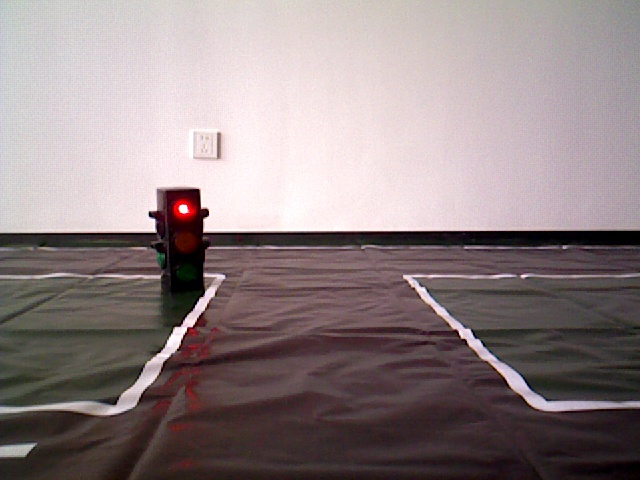red: (155, 193, 202, 295)
